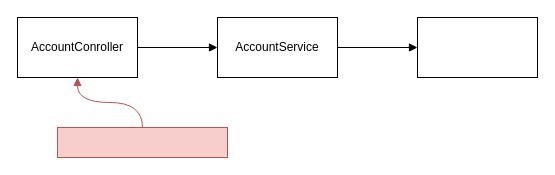
Some shapes in this 555 by 175 pixel diagram are drawn without their labels. Each missing label, with the box of its shape:
AccountRepository: (416, 16, 538, 78)
컨트롤러 계층에 권한 부여 적용: (56, 126, 228, 158)
